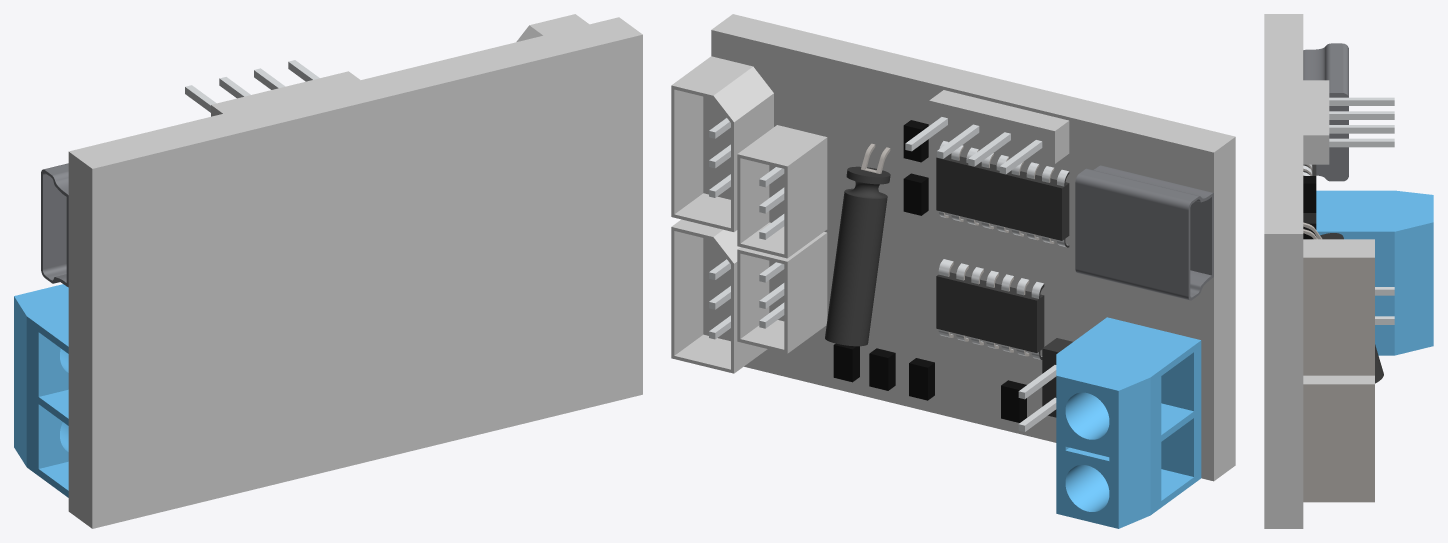
The model's file is BusLinker_V2.2.dae.
3 renders of one model, left to right at view 1: azimuth 30°, elevation 25°; view 2: azimuth 150°, elevation 25°; view 3: azimuth 270°, elevation 25°, orthographic. The views are drawn at different scales.
Parts seen in each view (by area): view 1: ID2; view 2: ID2; view 3: ID2.
Part boxes in pixels (x1,y1,x2,y2): ID2: (14, 14, 642, 528); ID2: (671, 14, 1235, 528); ID2: (1264, 14, 1433, 528).
Size of the model in its own units: 0.04 by 0.013 by 0.025.
